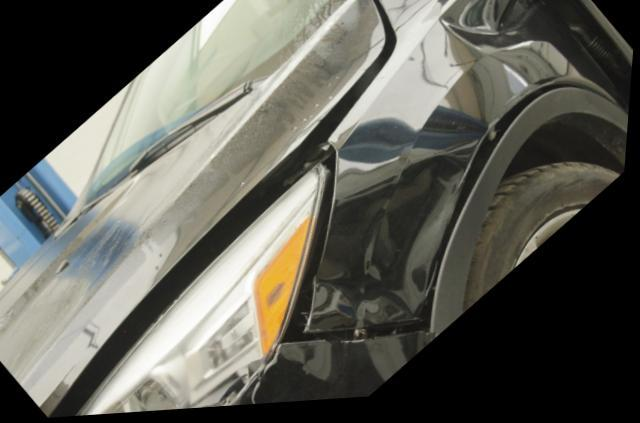crack: (256, 383, 268, 408)
dent: (318, 125, 478, 338), (440, 0, 610, 98)
